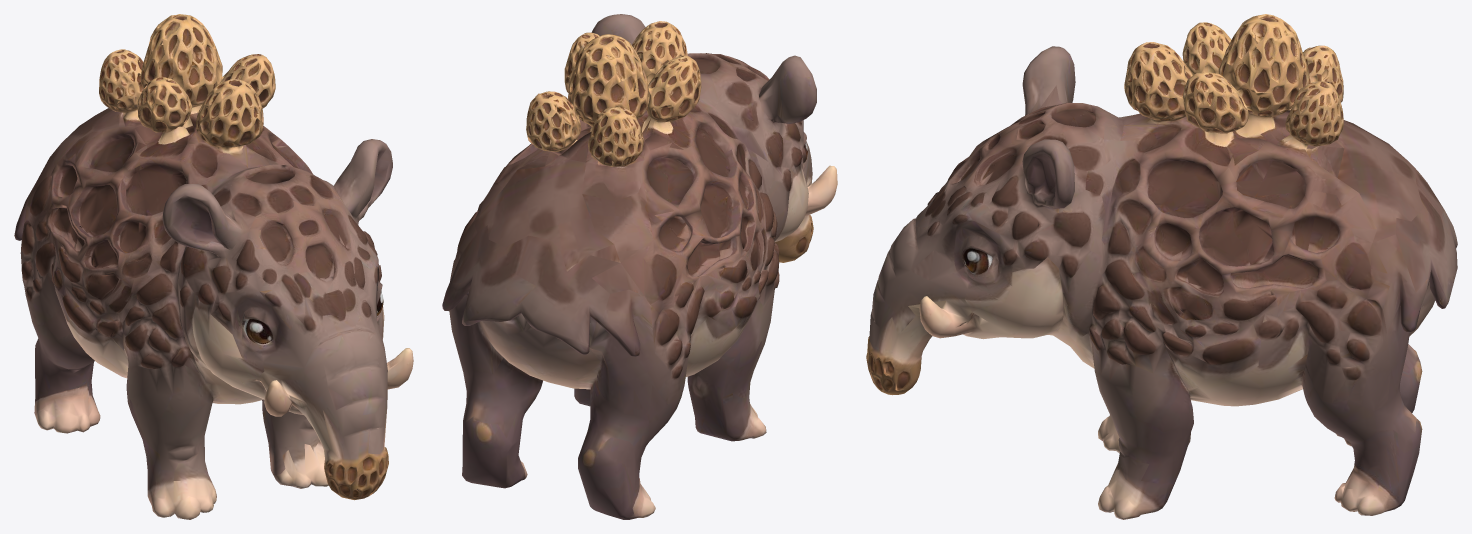
The picture shows the model from 3 angles, left to right: view 1: azimuth 30°, elevation 25°; view 2: azimuth 150°, elevation 25°; view 3: azimuth 270°, elevation 25°; orthographic projection. The views are drawn at different scales.
Visible parts, largest first — view 1: Mesh_0; view 2: Mesh_0; view 3: Mesh_0.
Part boxes in pixels (box(x1,y1,x2,y2)): Mesh_0: box(14, 14, 413, 519); Mesh_0: box(442, 14, 837, 519); Mesh_0: box(866, 14, 1457, 519).
Bounding box in the file's own units: 0.994 × 1.61 × 1.9.
Materials: 1 (1 with a texture image).
